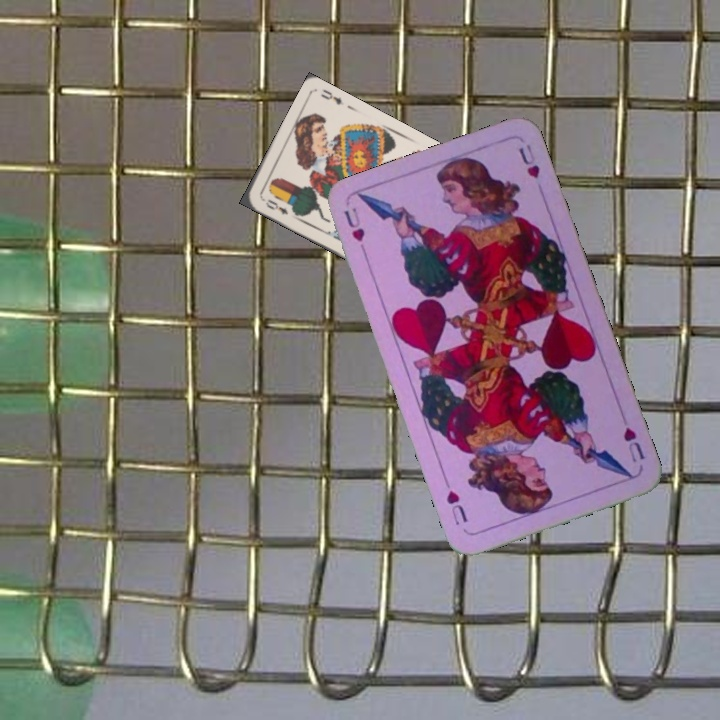EO: (262, 195, 291, 217)
HU: (340, 204, 371, 260), (619, 423, 647, 466)
